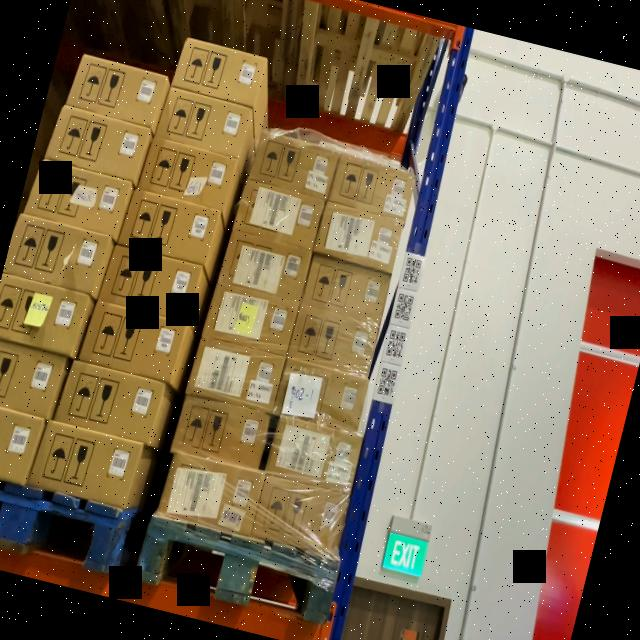box: (250, 472, 350, 560), (158, 453, 261, 538), (171, 386, 272, 472), (265, 414, 366, 496), (185, 337, 285, 417), (203, 278, 299, 358), (248, 124, 342, 204), (217, 230, 313, 304), (274, 361, 371, 433), (232, 181, 326, 254), (327, 147, 418, 222), (312, 202, 404, 274), (284, 308, 381, 376), (298, 255, 390, 325)
